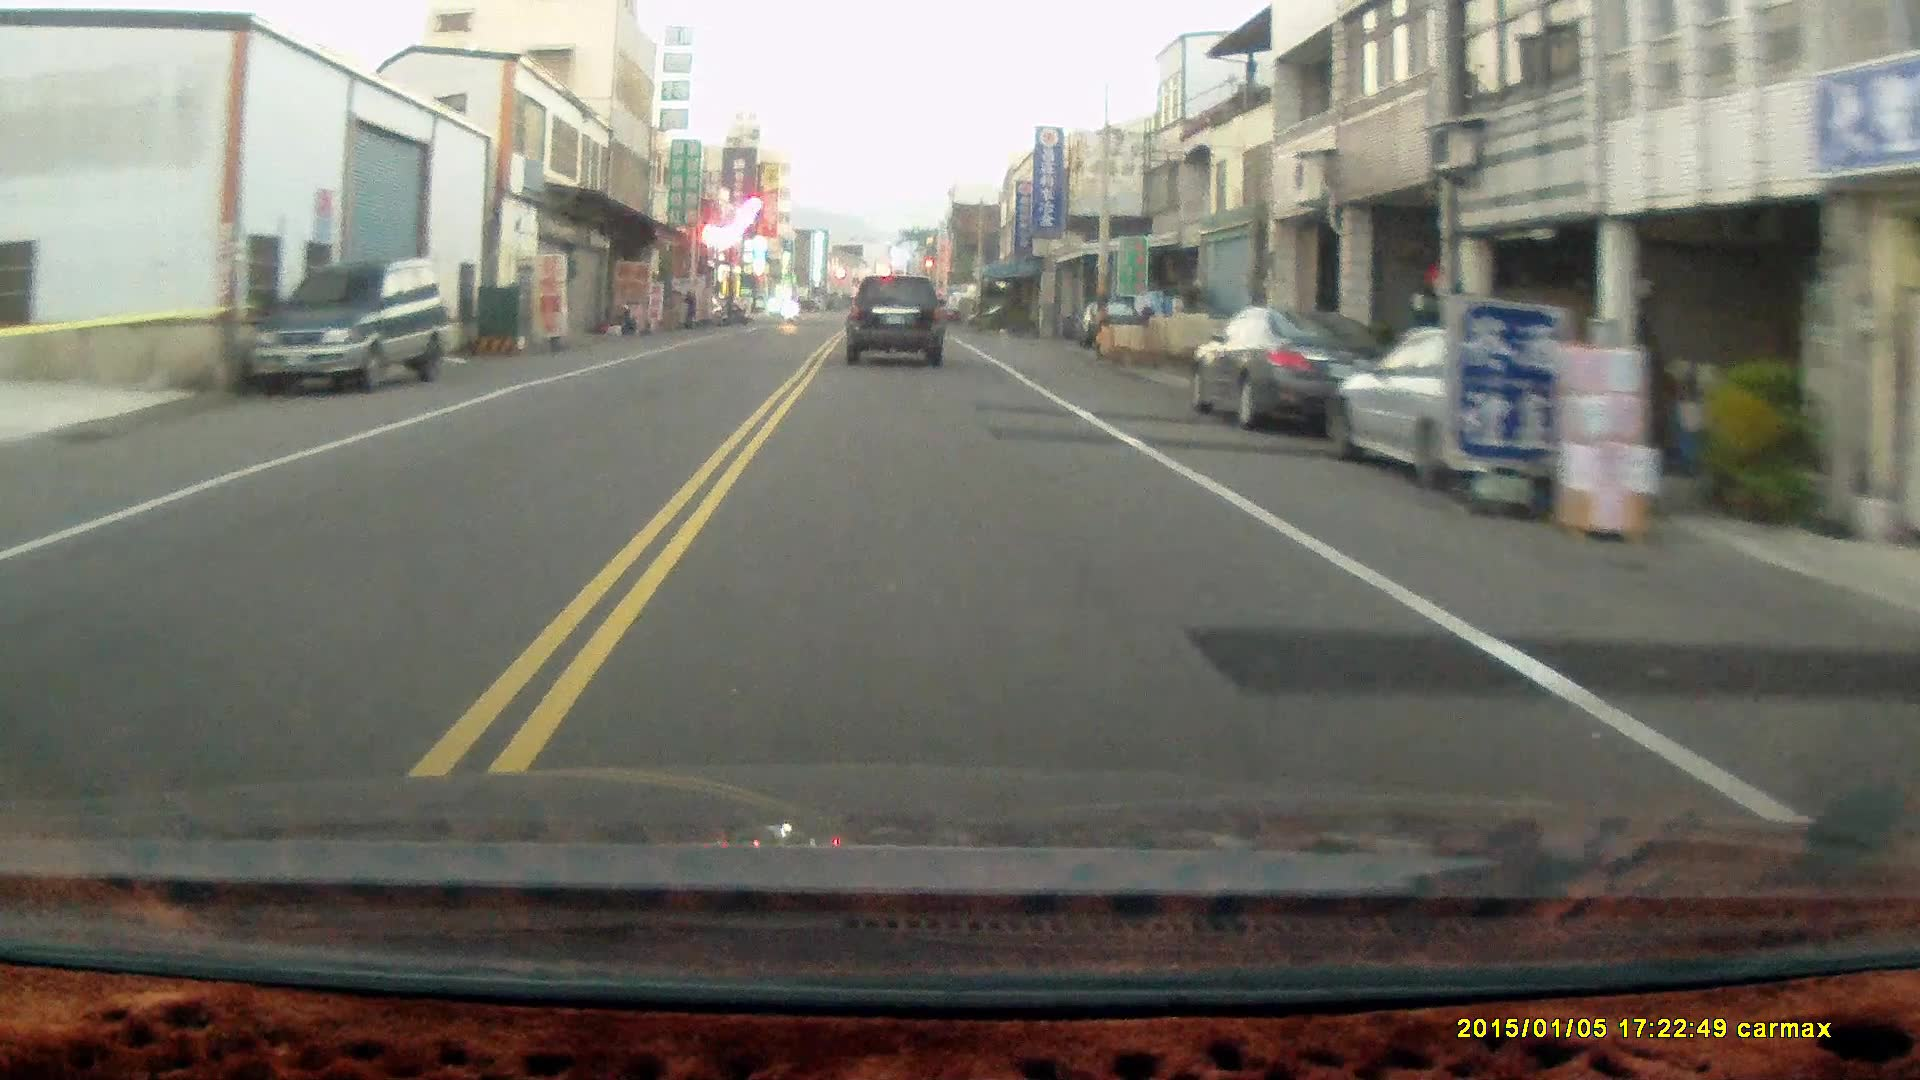pedestrian: (676, 284, 696, 331)
vehicle: (1330, 325, 1653, 499), (243, 254, 454, 397), (1187, 307, 1405, 434), (846, 274, 948, 368)
